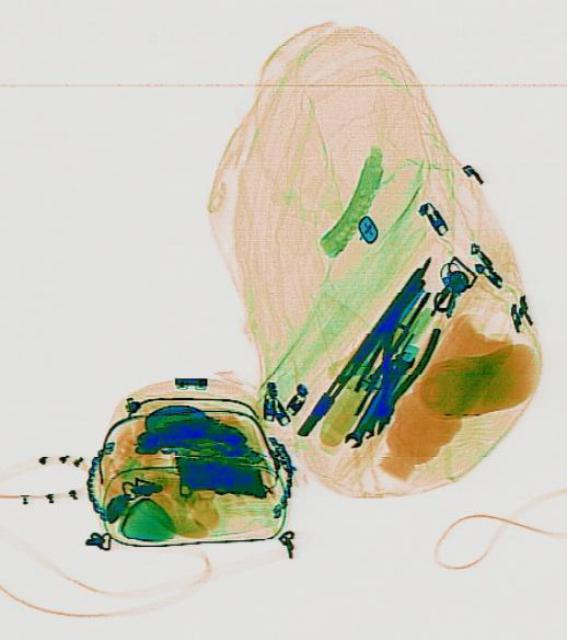Pliers: (350, 307, 440, 438)
Wrench: (338, 343, 415, 451)
